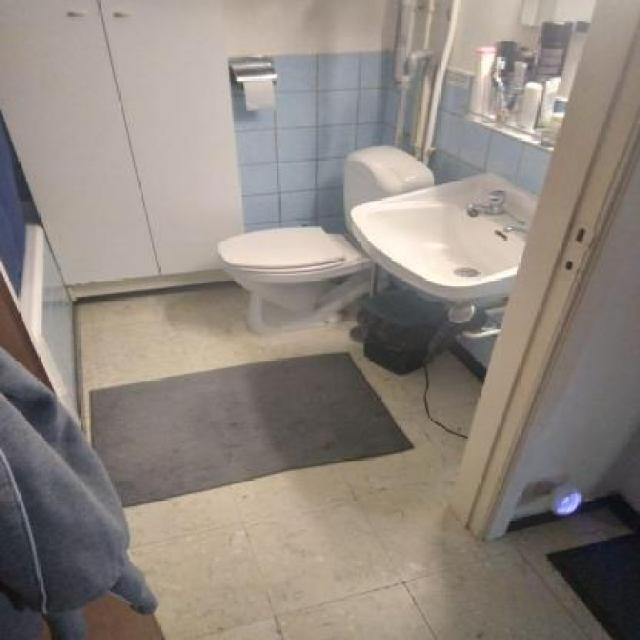Floor: (74, 286, 633, 640), (426, 350, 483, 438)
